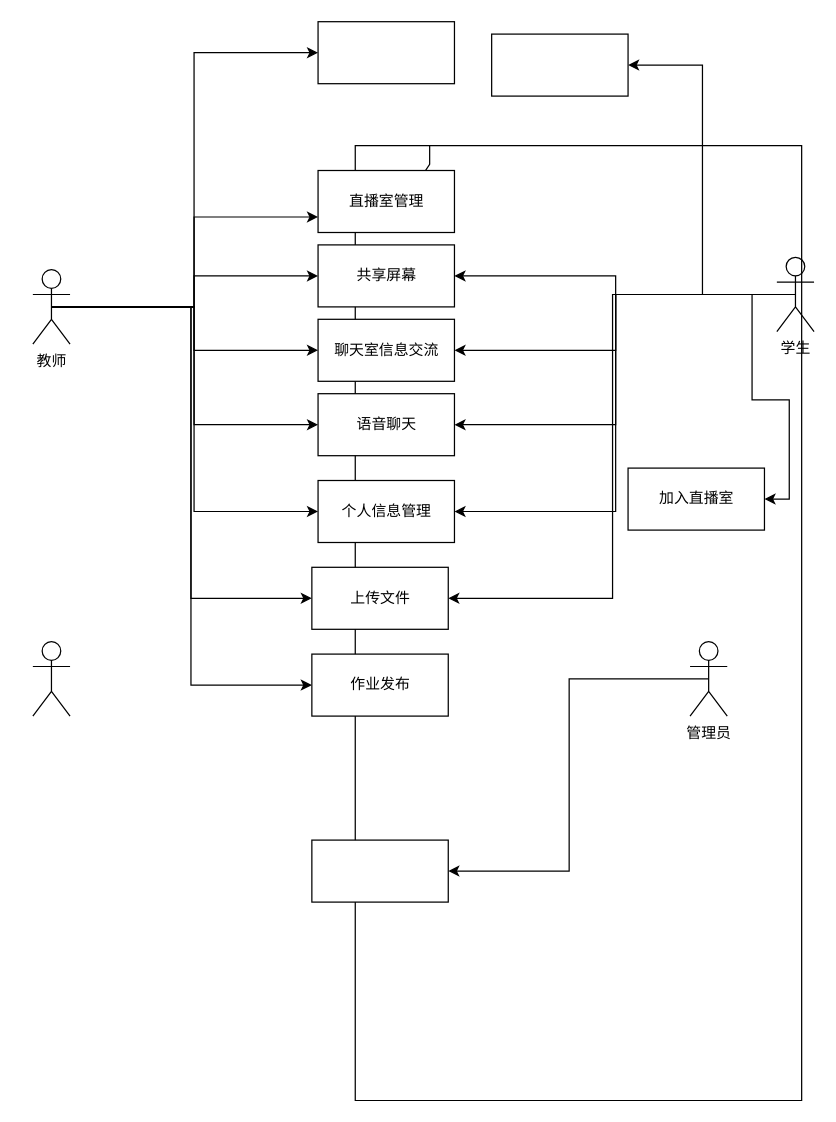
Some shapes in this 836 by 1122 pixel diagram are drawn without their labels. Here are the shapes that lost their labels. From the top down, the box of each, then its label:
(317, 20, 454, 84): 班级管理
(490, 33, 628, 96): 加入班级
(354, 144, 802, 1100): 用例
(32, 640, 70, 716): 行政人员
(311, 839, 448, 902): 平台人员信息管理
